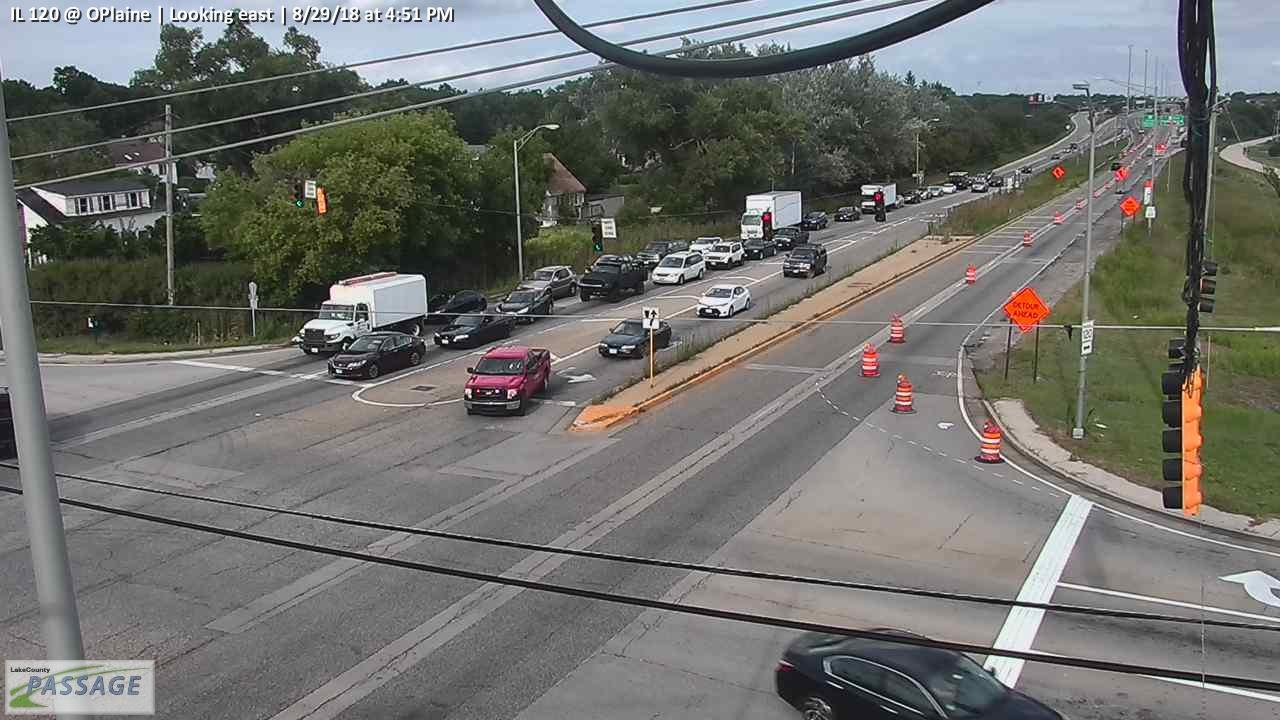SUV: (494, 282, 554, 325), (521, 263, 578, 300), (650, 250, 706, 285), (704, 240, 745, 270), (803, 209, 828, 230), (970, 178, 989, 193)
Sedan: (772, 623, 1068, 720), (326, 330, 426, 379), (433, 306, 515, 348), (598, 316, 673, 354), (427, 288, 488, 325), (697, 284, 753, 319), (743, 238, 779, 261), (834, 204, 861, 221), (901, 190, 921, 204), (914, 187, 932, 200), (940, 181, 957, 194), (927, 185, 945, 197), (892, 193, 905, 207)
Truck: (291, 269, 429, 357), (464, 345, 552, 418), (577, 256, 648, 305), (742, 187, 803, 244), (860, 181, 898, 214), (772, 226, 810, 248)
